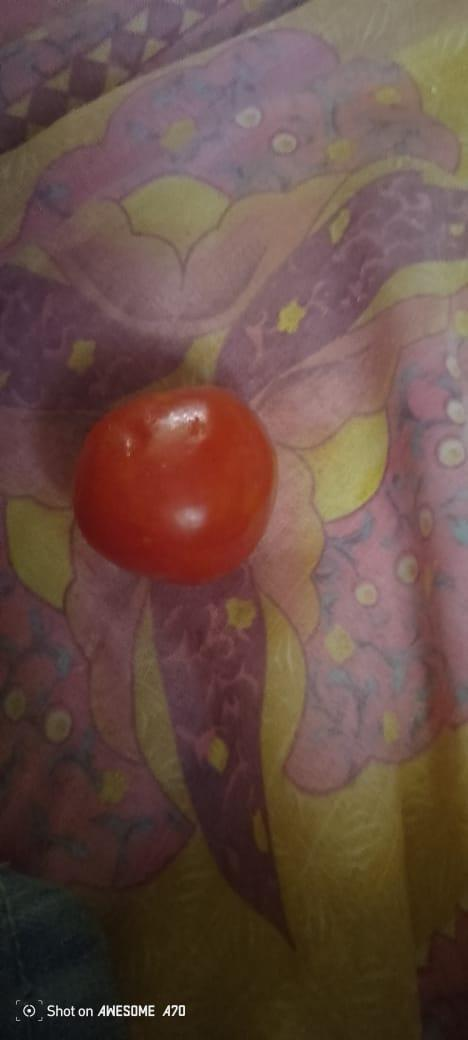non-mango: (67, 378, 280, 583)
